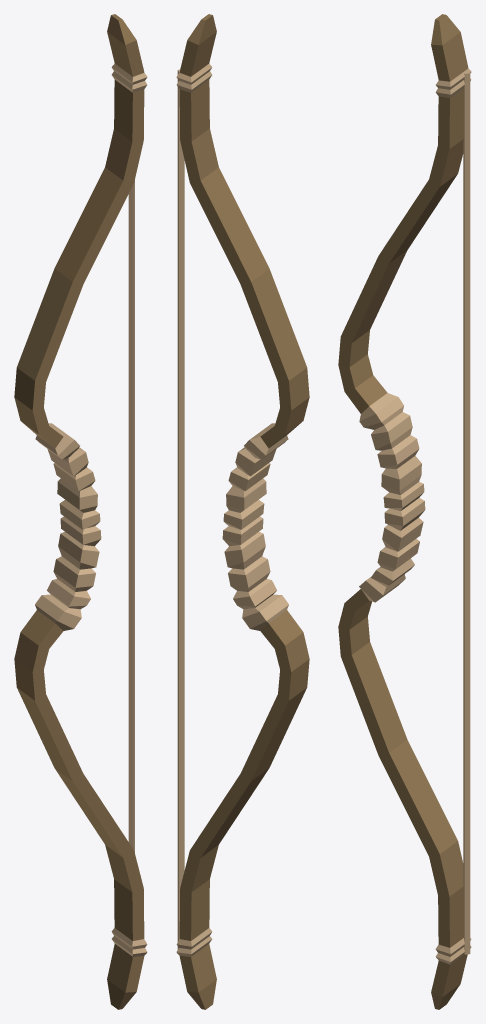
Rendered from SM_pwe_medieval_bow_01.fbx.
The picture shows the model from 3 angles, left to right: view 1: azimuth 30°, elevation 25°; view 2: azimuth 150°, elevation 25°; view 3: azimuth 330°, elevation 25°; orthographic projection.
Visible parts, largest first — view 1: SM_pwe_medieval_bow_01; view 2: SM_pwe_medieval_bow_01; view 3: SM_pwe_medieval_bow_01.
Boxes of the visible parts, bbox=[...] form: SM_pwe_medieval_bow_01: bbox=[14, 14, 147, 1009]; SM_pwe_medieval_bow_01: bbox=[176, 14, 309, 1009]; SM_pwe_medieval_bow_01: bbox=[338, 14, 471, 1009].
Bounding box in the file's own units: 11.07 × 89.32 × 3.72.
